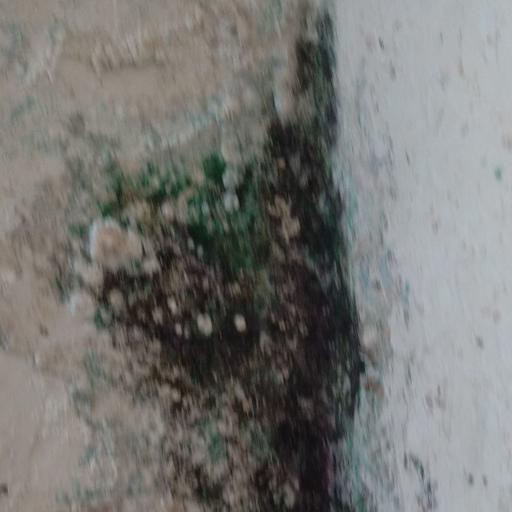algae: (52, 23, 435, 512)
